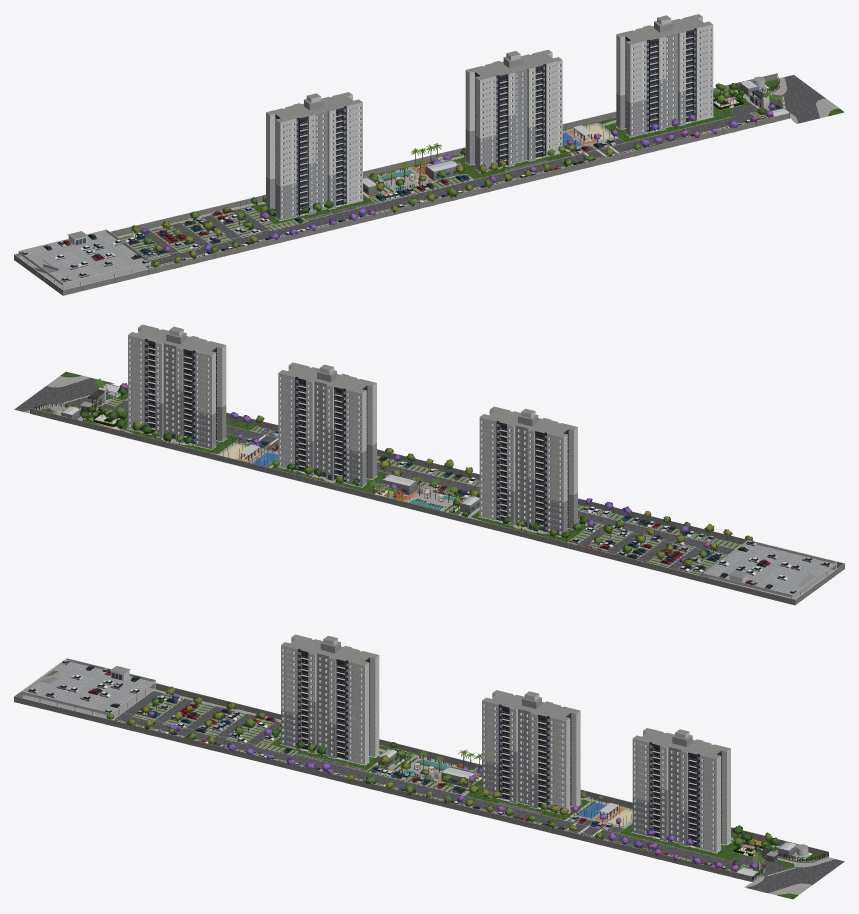
File: jardim-botanico.glb
3 renders of one model, top to bottom at view 1: azimuth 30°, elevation 25°; view 2: azimuth 150°, elevation 25°; view 3: azimuth 330°, elevation 25°, orthographic.
Parts seen in each view (by area): view 1: terreno, torre-3, torre-2, torre-1, vegetacao, garagem, carros, unidades, lazer; view 2: terreno, torre-3, torre-2, torre-1, vegetacao, garagem, carros, lazer, unidades; view 3: terreno, torre-3, torre-1, torre-2, vegetacao, garagem, carros, unidades, lazer.
Part boxes in pixels (bbox=[...]): terreno: bbox=[14, 73, 844, 295]; torre-3: bbox=[266, 92, 363, 220]; torre-2: bbox=[465, 49, 562, 172]; torre-1: bbox=[616, 14, 713, 136]; vegetacao: bbox=[131, 83, 783, 268]; garagem: bbox=[18, 229, 150, 289]; carros: bbox=[21, 119, 751, 282]; unidades: bbox=[277, 32, 692, 214]; lazer: bbox=[363, 76, 788, 195]; terreno: bbox=[14, 371, 844, 605]; torre-3: bbox=[478, 406, 577, 536]; torre-2: bbox=[278, 362, 376, 486]; torre-1: bbox=[127, 324, 226, 449]; vegetacao: bbox=[79, 378, 753, 570]; garagem: bbox=[703, 540, 837, 599]; carros: bbox=[245, 430, 831, 594]; lazer: bbox=[50, 384, 479, 515]; unidades: bbox=[149, 343, 566, 525]; terreno: bbox=[14, 660, 844, 899]; torre-3: bbox=[280, 634, 380, 764]; torre-1: bbox=[632, 728, 731, 852]; torre-2: bbox=[482, 690, 581, 813]; vegetacao: bbox=[106, 686, 779, 874]; garagem: bbox=[21, 658, 155, 720]; carros: bbox=[27, 660, 728, 869]; unidades: bbox=[302, 653, 696, 846]; lazer: bbox=[378, 748, 809, 876].
Size of what is drawn, in the model's own units: 375 by 50.41 by 47.4.
Materials: 96 (55 with a texture image).
